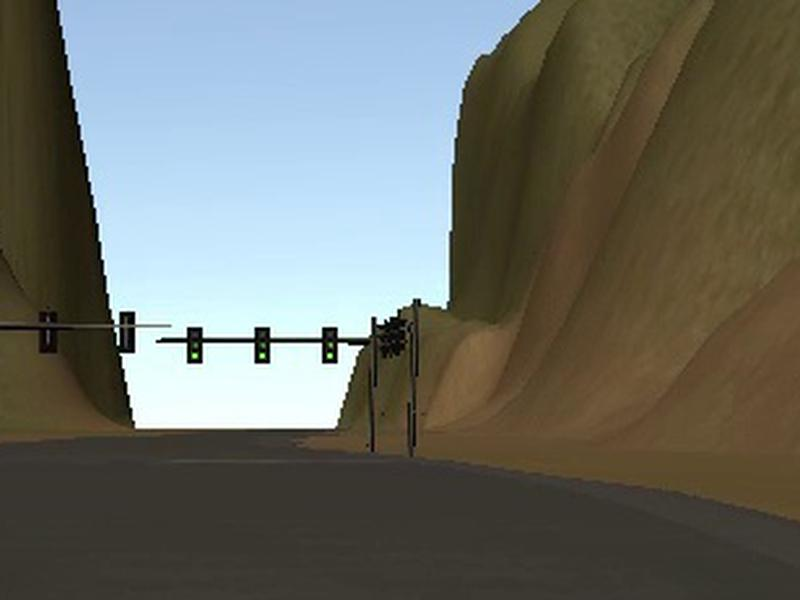Green: (186, 327, 203, 363), (321, 327, 338, 363), (254, 327, 270, 363)
